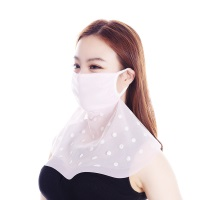face_mask: (72, 37, 121, 108)
